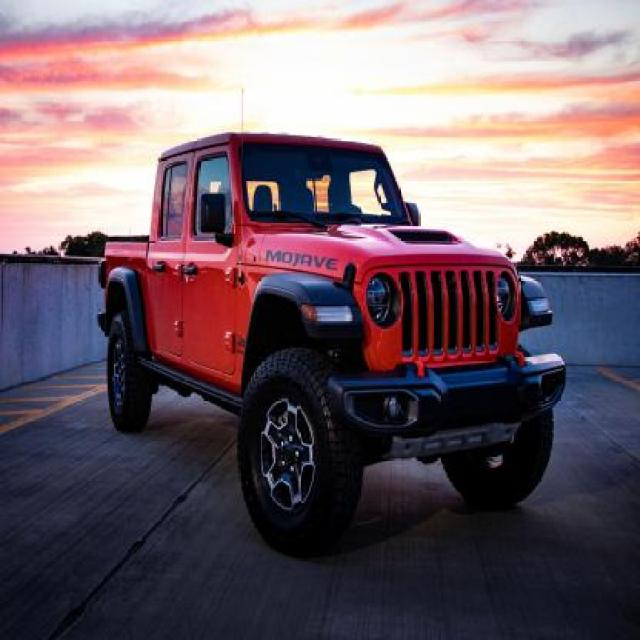Jeep: (95, 132, 570, 553)
